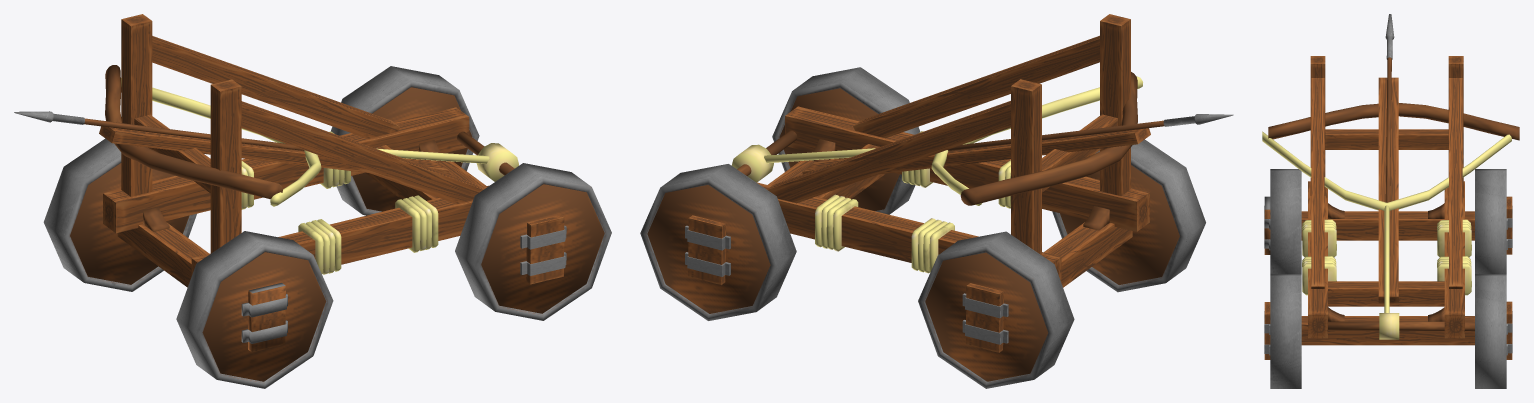
File: CatapultParted.fbx
3 renders of one model, left to right at view 1: azimuth 30°, elevation 25°; view 2: azimuth 150°, elevation 25°; view 3: azimuth 270°, elevation 25°, orthographic. The views are drawn at different scales.
Visible parts, largest first — view 1: wheel.018, wheel.021, wheel.020, VerticalLP.014, wheel.019, VerticalLP.021, VerticalLP.022, VerticalLP.009, VerticalLP.017, VerticalLP.018, strengthcilinder.009, VerticalLP.020 (+9 smaller); view 2: wheel.019, wheel.020, wheel.021, VerticalLP.009, VerticalLP.022, wheel.018, VerticalLP.021, VerticalLP.014, VerticalLP.018, VerticalLP.017, strengthcilinder.009, VerticalLP.020 (+9 smaller); view 3: wheel.019, wheel.018, wheel.020, wheel.021, VerticalLP.020, VerticalLP.022, VerticalLP.021, strengthcilinder.009, VerticalLP.016, VerticalLP.015, VerticalLP.024, ropeimpact.004 (+14 smaller).
Boxes of the visible parts, bbox=[...] form: wheel.018: bbox=[455, 163, 611, 320]; wheel.021: bbox=[176, 231, 333, 388]; wheel.020: bbox=[43, 138, 196, 291]; VerticalLP.014: bbox=[103, 107, 469, 233]; wheel.019: bbox=[331, 66, 479, 215]; VerticalLP.021: bbox=[241, 101, 484, 203]; VerticalLP.022: bbox=[152, 36, 399, 138]; VerticalLP.009: bbox=[191, 185, 488, 275]; VerticalLP.017: bbox=[210, 79, 241, 253]; VerticalLP.018: bbox=[121, 14, 152, 196]; strengthcilinder.009: bbox=[105, 65, 282, 199]; VerticalLP.020: bbox=[99, 126, 448, 173]; wheel.019: bbox=[640, 164, 796, 320]; wheel.020: bbox=[918, 231, 1074, 388]; wheel.021: bbox=[1052, 139, 1205, 292]; VerticalLP.009: bbox=[785, 106, 1149, 231]; VerticalLP.022: bbox=[767, 101, 1010, 203]; wheel.018: bbox=[772, 67, 920, 214]; VerticalLP.021: bbox=[853, 35, 1099, 138]; VerticalLP.014: bbox=[756, 182, 1061, 282]; VerticalLP.018: bbox=[1011, 79, 1041, 254]; VerticalLP.017: bbox=[1100, 14, 1130, 195]; strengthcilinder.009: bbox=[960, 72, 1137, 205]; VerticalLP.020: bbox=[802, 128, 1150, 174]; wheel.019: bbox=[1475, 274, 1512, 388]; wheel.018: bbox=[1264, 274, 1301, 388]; wheel.020: bbox=[1475, 169, 1512, 274]; wheel.021: bbox=[1264, 169, 1301, 274]; VerticalLP.020: bbox=[1378, 77, 1398, 303]; VerticalLP.022: bbox=[1449, 78, 1462, 288]; VerticalLP.021: bbox=[1311, 78, 1324, 288]; strengthcilinder.009: bbox=[1268, 103, 1519, 140]; VerticalLP.016: bbox=[1301, 316, 1474, 345]; VerticalLP.015: bbox=[1301, 211, 1474, 240]; VerticalLP.024: bbox=[1328, 281, 1444, 306]; ropeimpact.004: bbox=[1262, 131, 1511, 210].
Size of the model in its own units: 573 by 298 by 318.
